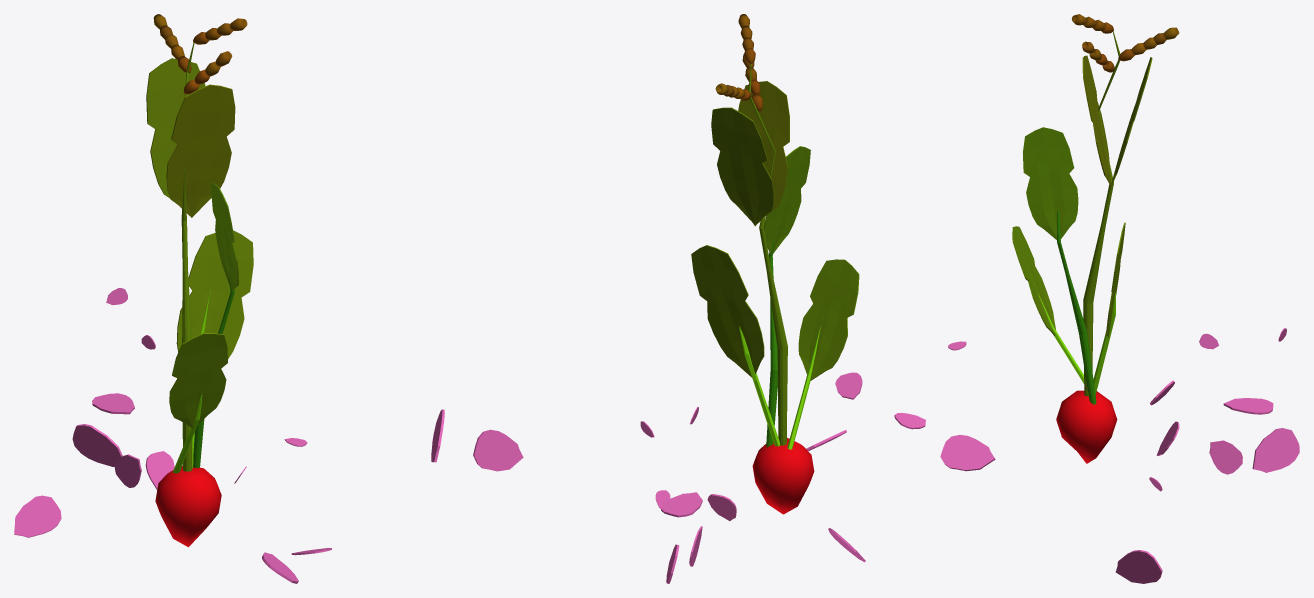
File: Radish Seeding.fbx
The picture shows the model from 3 angles, left to right: view 1: azimuth 30°, elevation 25°; view 2: azimuth 150°, elevation 25°; view 3: azimuth 270°, elevation 25°; orthographic projection. The views are drawn at different scales.
Parts seen in each view (by area): view 1: Plane.002, Plane.001, Plane, Icosphere, Plane.004, Plane.003, Cylinder.003, Plane.014, Plane.006, Plane.008, Plane.007, Plane.013 (+1 smaller); view 2: Plane.001, Plane.004, Plane, Icosphere, Plane.002, Plane.003, Cylinder.003, Plane.005, Cylinder.004, Plane.008, Cylinder.002, Cylinder.001 (+2 smaller); view 3: Plane.003, Icosphere, Cylinder.003, Plane.006, Plane, Plane.015, Plane.002, Cylinder.004, Plane.005, Plane.013, Plane.008, Plane.004 (+1 smaller).
Boxes of the visible parts, left/top/right/bottom form: Plane.002: left=166, top=84, right=235, bottom=217; Plane.001: left=176, top=230, right=253, bottom=358; Plane: left=169, top=333, right=227, bottom=428; Icosphere: left=155, top=466, right=221, bottom=547; Plane.004: left=146, top=58, right=205, bottom=198; Plane.003: left=211, top=182, right=238, bottom=291; Cylinder.003: left=181, top=43, right=194, bottom=471; Plane.014: left=14, top=495, right=61, bottom=537; Plane.006: left=72, top=424, right=122, bottom=466; Plane.008: left=92, top=393, right=134, bottom=414; Plane.007: left=145, top=451, right=174, bottom=489; Plane.013: left=114, top=454, right=141, bottom=487; Plane.001: left=691, top=245, right=764, bottom=377; Plane.004: left=711, top=107, right=773, bottom=224; Plane: left=798, top=259, right=859, bottom=380; Icosphere: left=752, top=438, right=814, bottom=514; Plane.002: left=738, top=81, right=789, bottom=226; Plane.003: left=764, top=146, right=810, bottom=253; Cylinder.003: left=748, top=63, right=787, bottom=445; Plane.005: left=473, top=429, right=523, bottom=471; Cylinder.004: left=766, top=238, right=777, bottom=447; Plane.008: left=661, top=492, right=702, bottom=517; Cylinder.002: left=739, top=326, right=779, bottom=446; Cylinder.001: left=787, top=318, right=822, bottom=449; Plane.003: left=1023, top=127, right=1078, bottom=239; Icosphere: left=1056, top=390, right=1117, bottom=463; Cylinder.003: left=1083, top=31, right=1120, bottom=396; Plane.006: left=1252, top=428, right=1299, bottom=472; Plane: left=1012, top=226, right=1055, bottom=335; Plane.015: left=940, top=435, right=995, bottom=471; Plane.002: left=1082, top=55, right=1111, bottom=186; Cylinder.004: left=1057, top=210, right=1096, bottom=404; Plane.005: left=1115, top=550, right=1162, bottom=583; Plane.013: left=1209, top=440, right=1242, bottom=474; Plane.008: left=1223, top=398, right=1273, bottom=414; Plane.004: left=1111, top=57, right=1152, bottom=184.
Size of the model in its own units: 1441 by 1702 by 1324.
